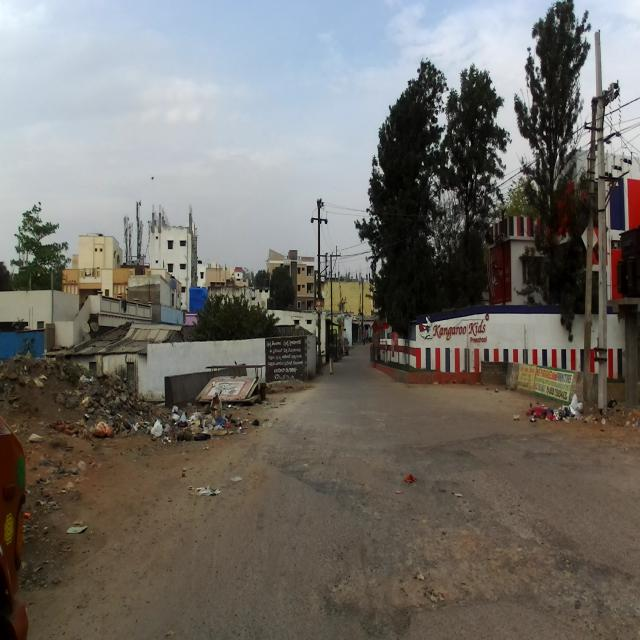electric pole ahead at: (578, 24, 633, 437)
